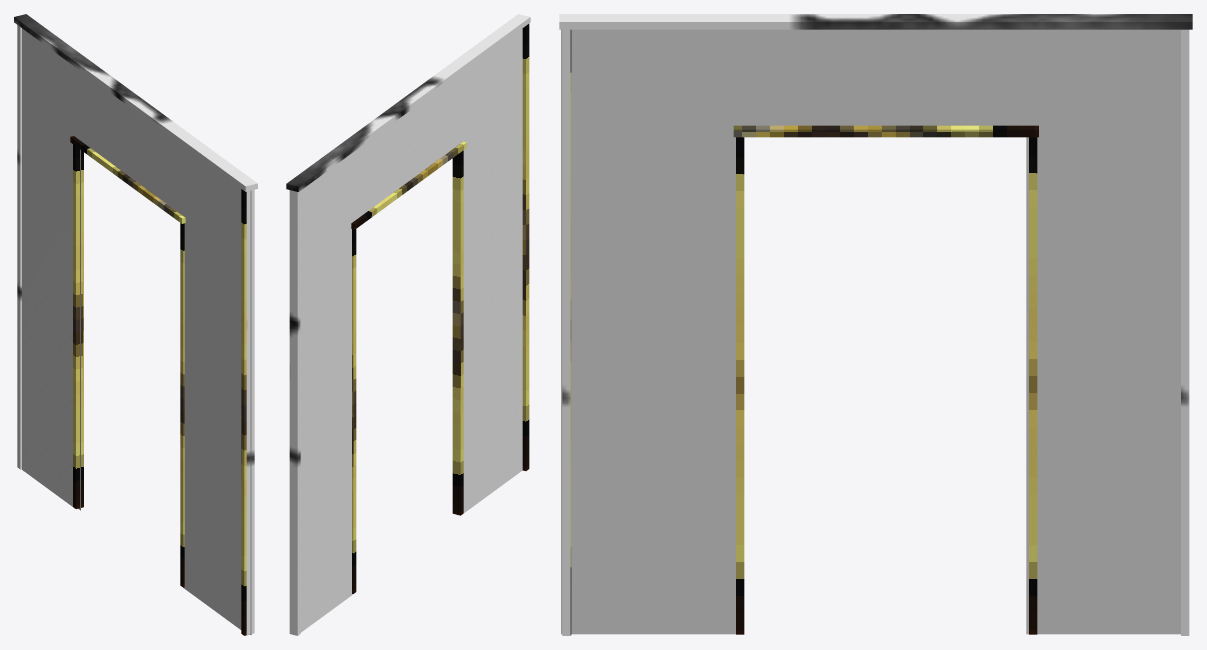
The model's file is 铁门框.FBX.
3 renders of one model, left to right at view 1: azimuth 30°, elevation 25°; view 2: azimuth 150°, elevation 25°; view 3: azimuth 270°, elevation 25°, orthographic. The views are drawn at different scales.
Visible parts, largest first — view 1: Box10, Object15; view 2: Box10; view 3: Object15, Box10.
Part boxes in pixels (left/top/right/bottom): Box10: left=14, top=14, right=257, bottom=635; Object15: left=78, top=149, right=251, bottom=634; Box10: left=286, top=14, right=530, bottom=635; Object15: left=561, top=29, right=1180, bottom=634; Box10: left=559, top=14, right=1192, bottom=635.
Size of the model in its own units: 3.63 by 119 by 128.
